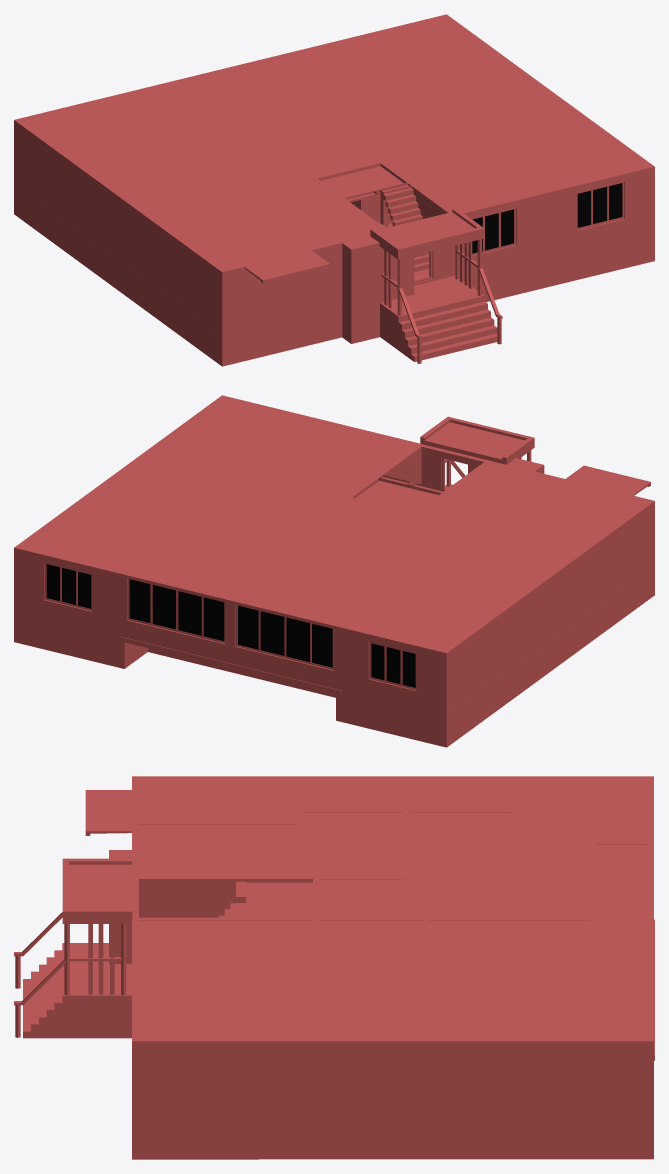
File: SM_house_section_3.fbx
3 views of the same model, one above another, from view 1: azimuth 30°, elevation 25°; view 2: azimuth 150°, elevation 25°; view 3: azimuth 270°, elevation 25° (orthographic). The views are drawn at different scales.
Visible parts, largest first — view 1: Cube_6; view 2: Cube_6; view 3: Cube_6.
Part boxes in pixels (x1=…): Cube_6: x1=14, y1=14, x2=654, y2=366; Cube_6: x1=14, y1=395, x2=654, y2=747; Cube_6: x1=14, y1=776, x2=654, y2=1159.
Size of the model in its own units: 1800 by 402 by 1842.
